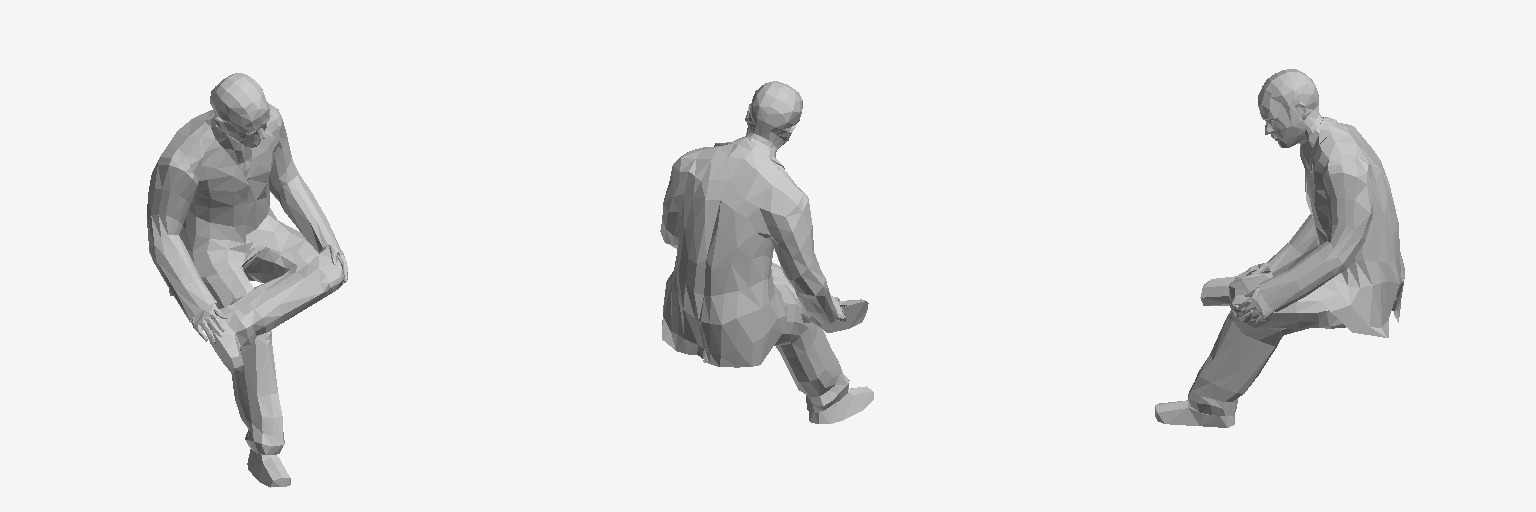
The model's file is BMan0006-Se.obj.
3 views of the same model, side by side, from view 1: azimuth 30°, elevation 25°; view 2: azimuth 150°, elevation 25°; view 3: azimuth 270°, elevation 25° (orthographic).
Visible parts, largest first — view 1: bman0006_se_Imported_OBJ_Object; view 2: bman0006_se_Imported_OBJ_Object; view 3: bman0006_se_Imported_OBJ_Object.
Boxes of the visible parts, <box> form: bman0006_se_Imported_OBJ_Object: <box>147,73,347,487</box>; bman0006_se_Imported_OBJ_Object: <box>660,81,873,423</box>; bman0006_se_Imported_OBJ_Object: <box>1155,69,1404,427</box>.
Size of the model in its own units: 0.6645 by 1.4 by 0.8863.